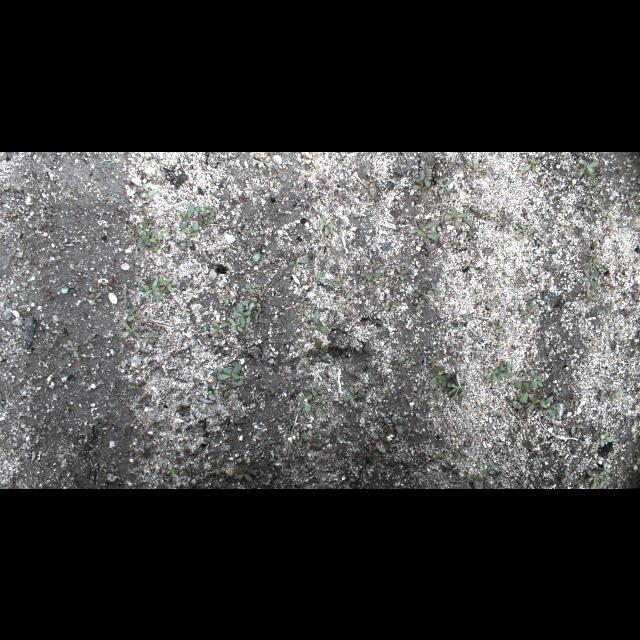weed: (398, 215, 438, 241), (132, 220, 164, 250), (232, 302, 262, 328), (180, 206, 212, 230), (218, 364, 242, 396), (135, 276, 163, 302), (515, 381, 545, 403), (444, 373, 464, 403), (428, 356, 446, 386), (577, 158, 599, 182), (444, 208, 468, 228), (243, 283, 263, 305), (308, 340, 330, 360), (342, 386, 366, 402), (416, 162, 432, 186), (312, 310, 328, 332), (520, 304, 538, 322), (120, 321, 140, 337), (296, 300, 316, 316), (320, 213, 334, 234), (217, 286, 233, 304), (304, 382, 322, 398), (540, 396, 554, 416), (587, 468, 601, 488), (584, 266, 598, 286), (530, 369, 542, 391), (303, 152, 319, 168), (525, 155, 541, 171), (139, 184, 157, 198), (160, 274, 174, 292), (234, 466, 252, 480), (208, 321, 228, 333), (208, 460, 224, 474), (256, 153, 272, 167), (297, 396, 311, 412), (499, 362, 513, 378), (572, 414, 582, 434), (138, 331, 156, 342), (361, 180, 375, 194), (394, 266, 408, 280), (118, 288, 130, 304), (66, 340, 78, 356), (484, 368, 500, 380), (127, 308, 139, 322), (229, 318, 243, 330), (439, 179, 451, 193), (288, 258, 308, 266), (253, 464, 265, 474)
